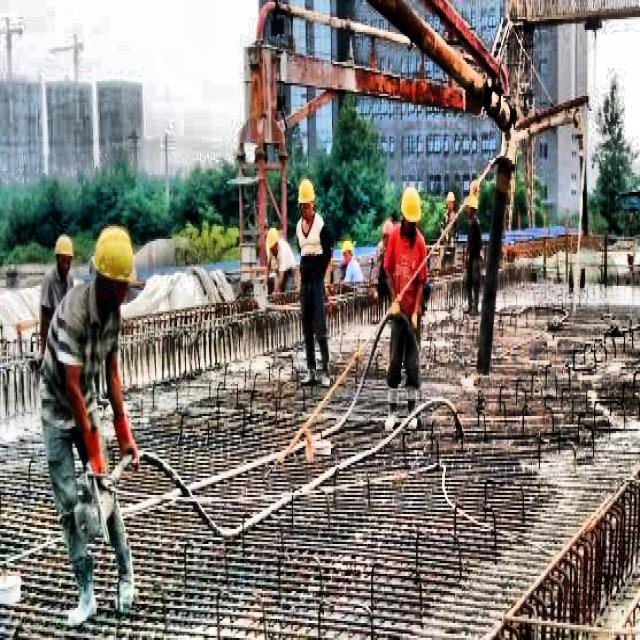helmet: (91, 220, 138, 311), (399, 181, 426, 239), (52, 232, 74, 278), (296, 171, 315, 222), (340, 232, 360, 269), (266, 222, 282, 258), (382, 214, 398, 248), (464, 192, 480, 224)
